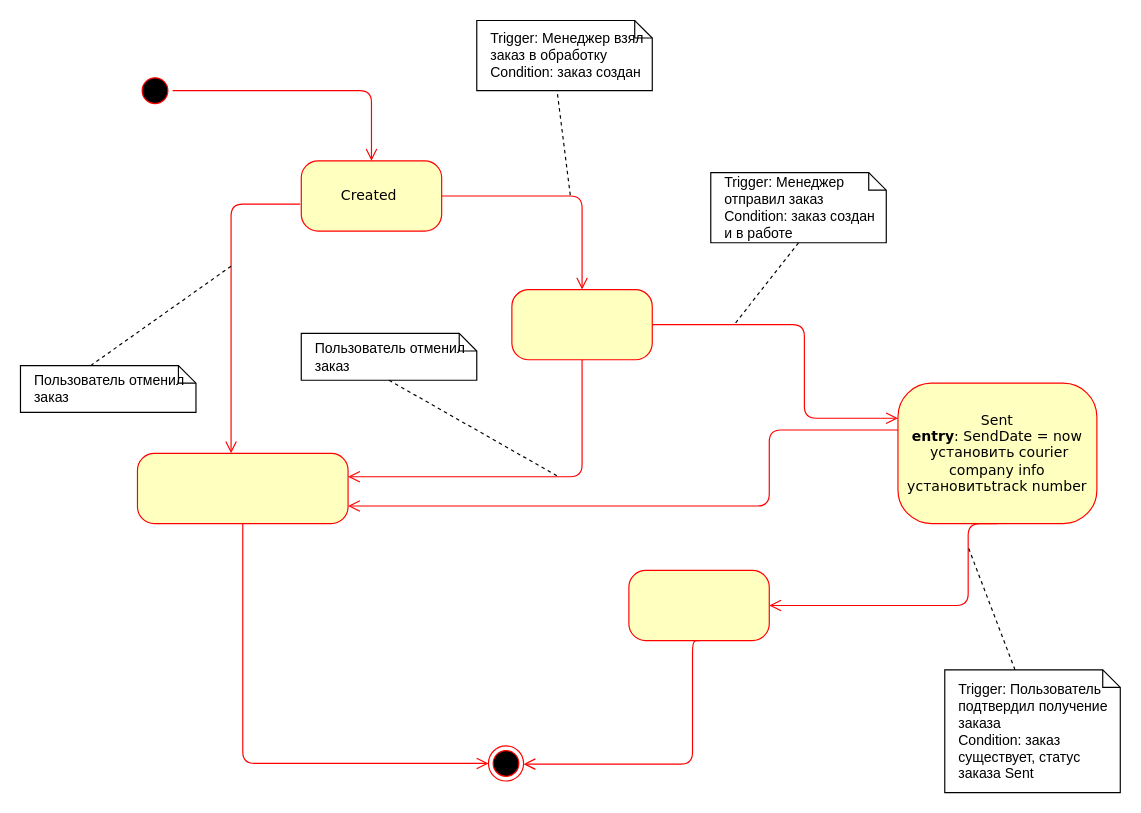
Image size: 1141x813. Some labels were removed from this diagram. Each missing label, with the box of its shape:
Canceled entry: отменить траназакцию вернуть сумму на баланс: (136, 452, 348, 524)
Closed exit: отправить уведомление о доставке: (628, 569, 769, 641)
InProgress: (511, 288, 652, 360)
